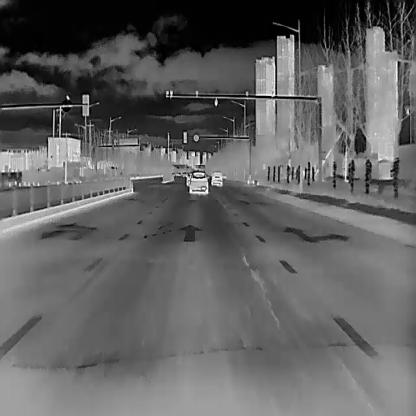car: (186, 169, 208, 194), (210, 170, 222, 184), (186, 170, 190, 185), (180, 170, 186, 176)
